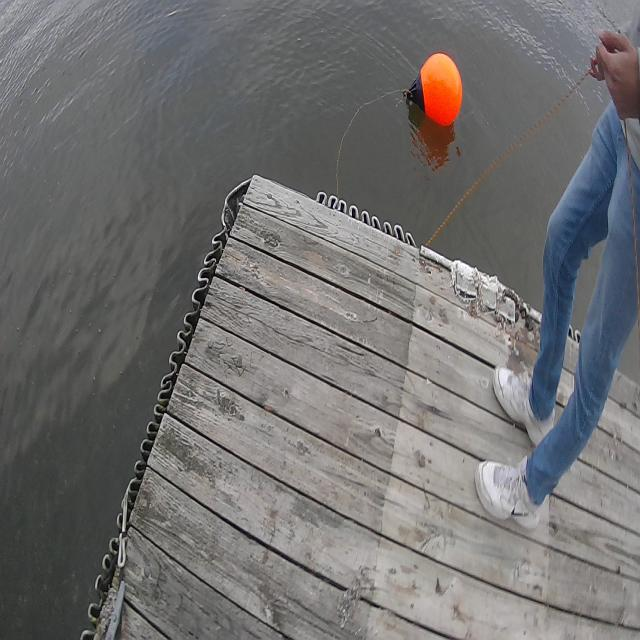Buoy: (401, 49, 464, 134)
